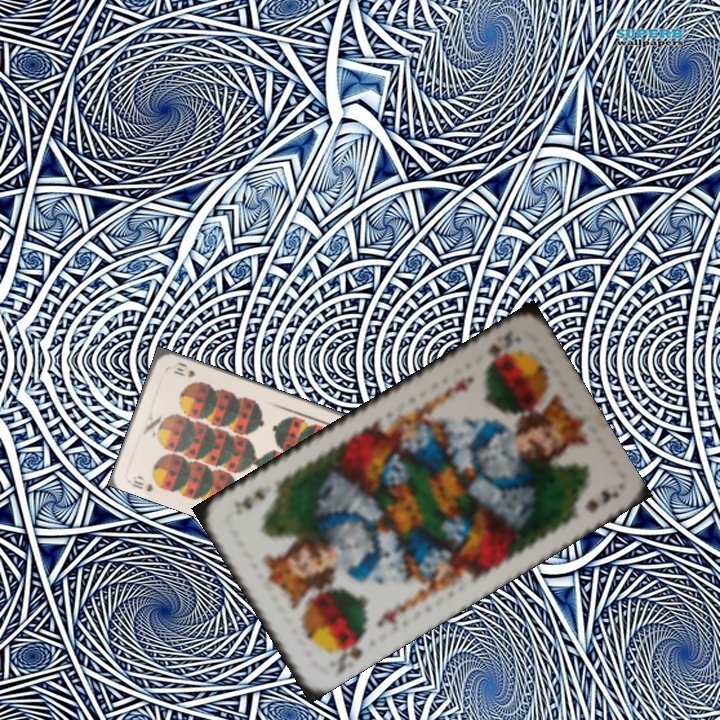S10: (128, 476, 156, 494)
SK: (333, 630, 367, 675), (482, 332, 512, 368)
